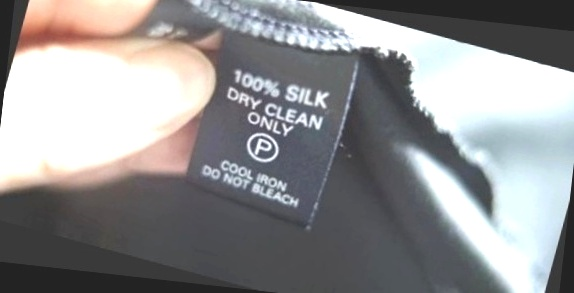dry_clean_any_solvent_except_trichloroethylene: (243, 128, 285, 166)
